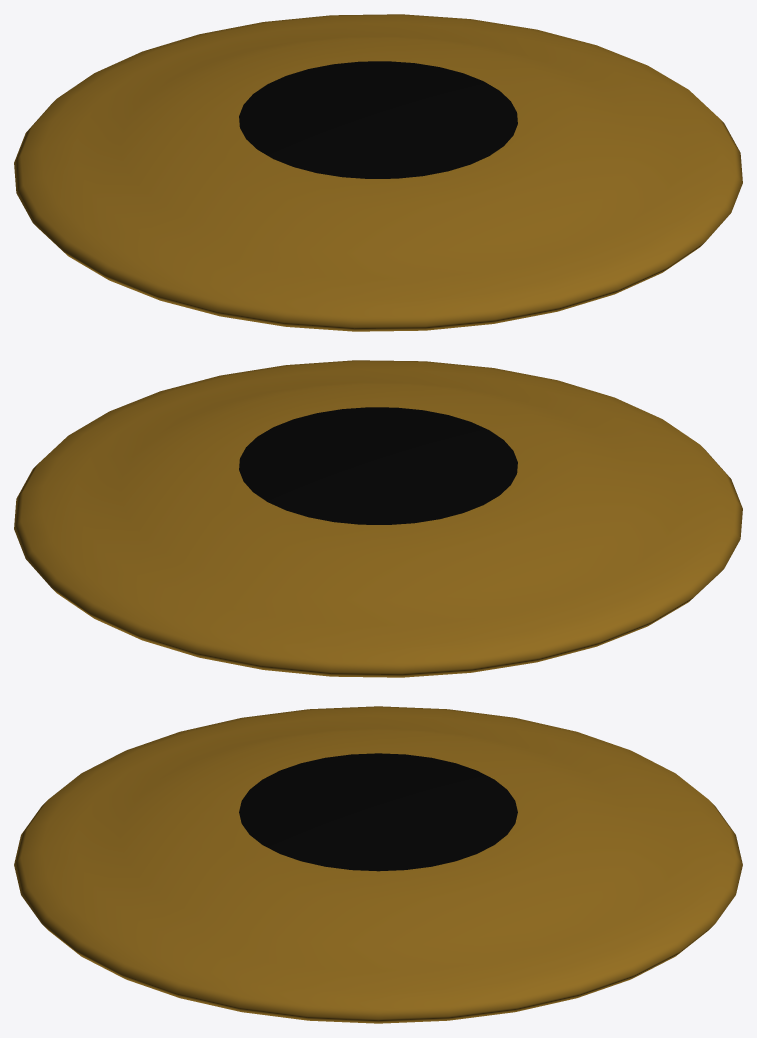
File: simple_shield.gltf
3 renders of one model, top to bottom at view 1: azimuth 30°, elevation 25°; view 2: azimuth 150°, elevation 25°; view 3: azimuth 270°, elevation 25°, orthographic.
Visible parts, largest first — view 1: Sphere; view 2: Sphere; view 3: Sphere.
Part boxes in pixels (left/top/right/bottom): Sphere: left=14, top=14, right=742, bottom=331; Sphere: left=14, top=360, right=742, bottom=677; Sphere: left=14, top=706, right=742, bottom=1023.
Bounding box in the file's own units: 0.2819 × 0.027 × 0.2819.
